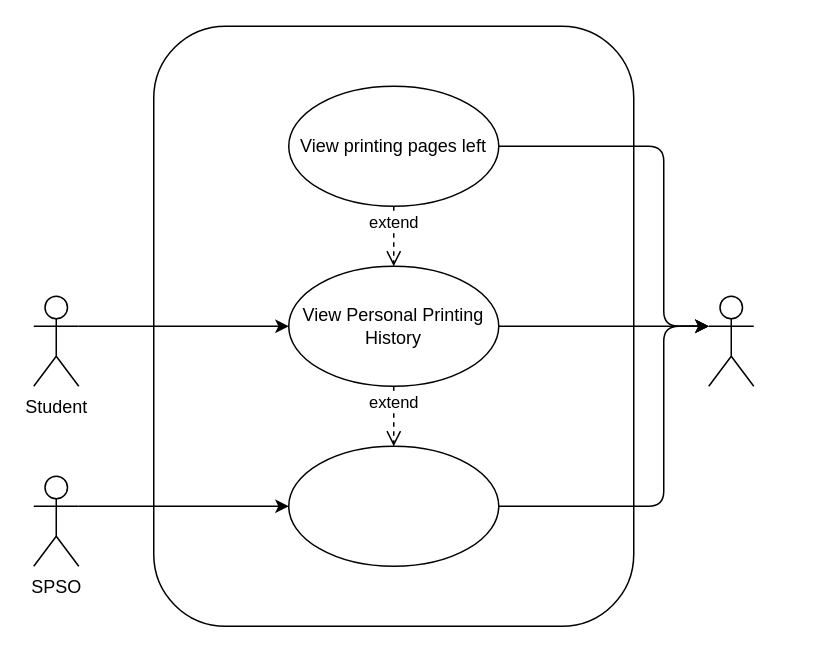
The diagram is 819 pixels wide and 653 high, and some of its shapes have lost their labels. Here are the shapes that lost their labels. From the top down, the centre of each, then its label:
At (730,340): "HCMUT_SSPS".
At (393,505): "View Students Printing History".
